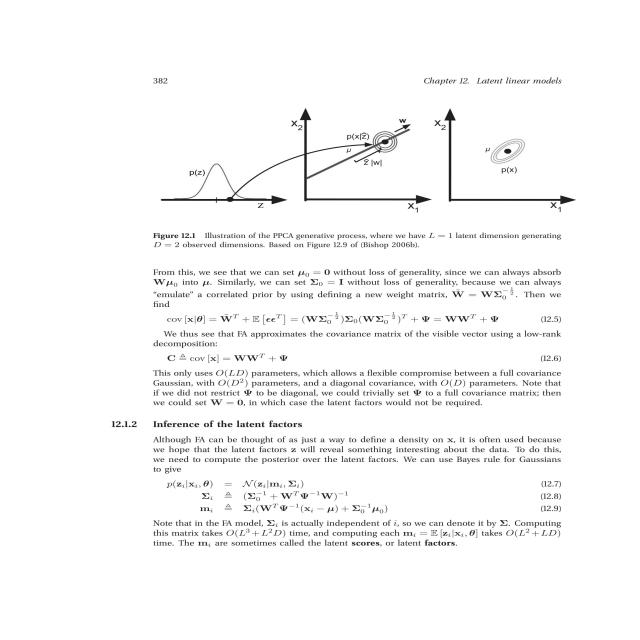diagram: (118, 97, 640, 248)
